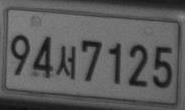1: (106, 42, 127, 84)
2: (127, 43, 148, 87)
4: (32, 35, 54, 78)
5: (151, 45, 173, 89)
7: (80, 39, 103, 82)
9: (10, 34, 30, 75)
서: (56, 45, 76, 79)
